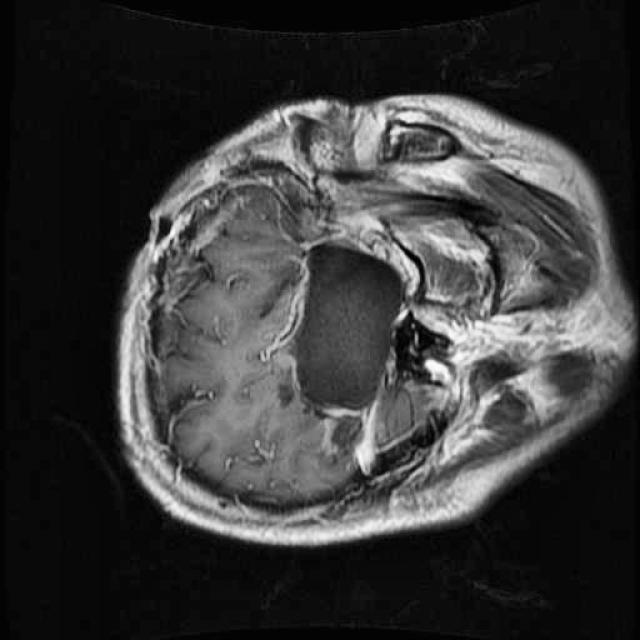Tumor: (267, 222, 429, 468)
